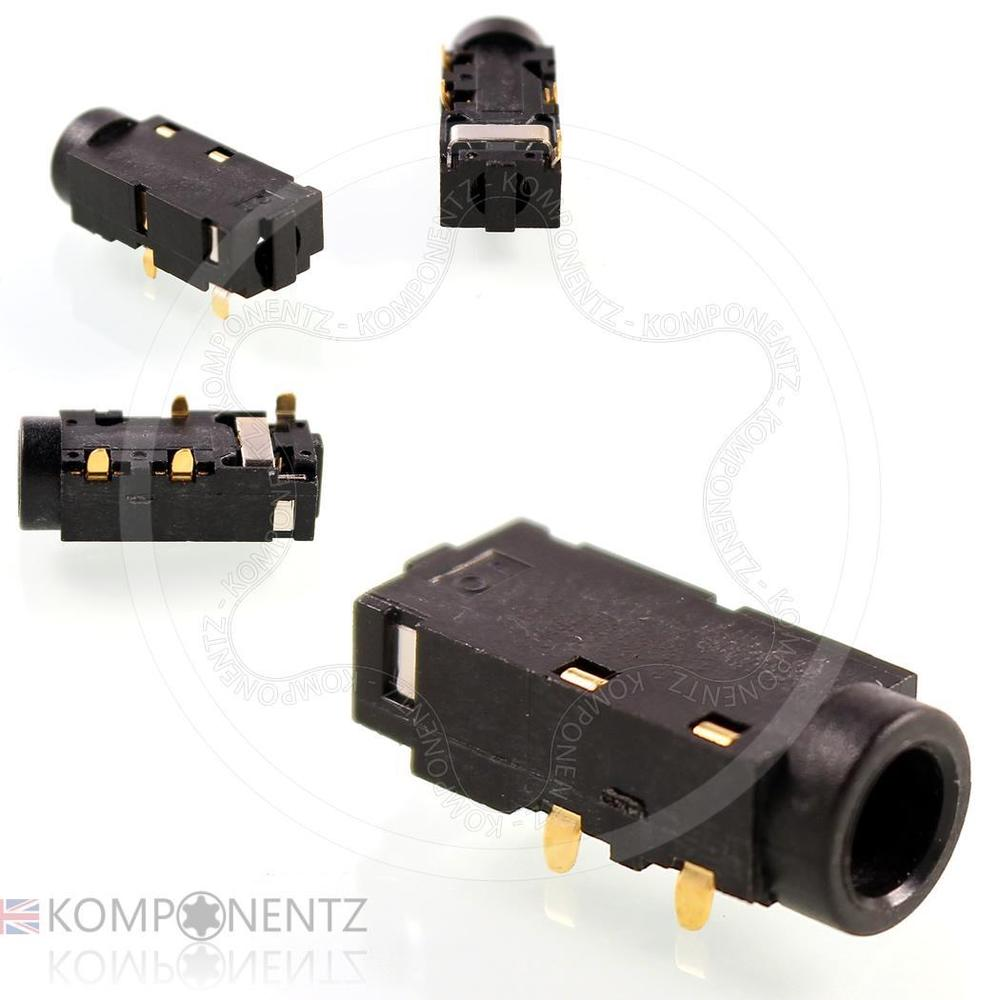aud: (351, 496, 986, 943), (432, 11, 575, 254)
